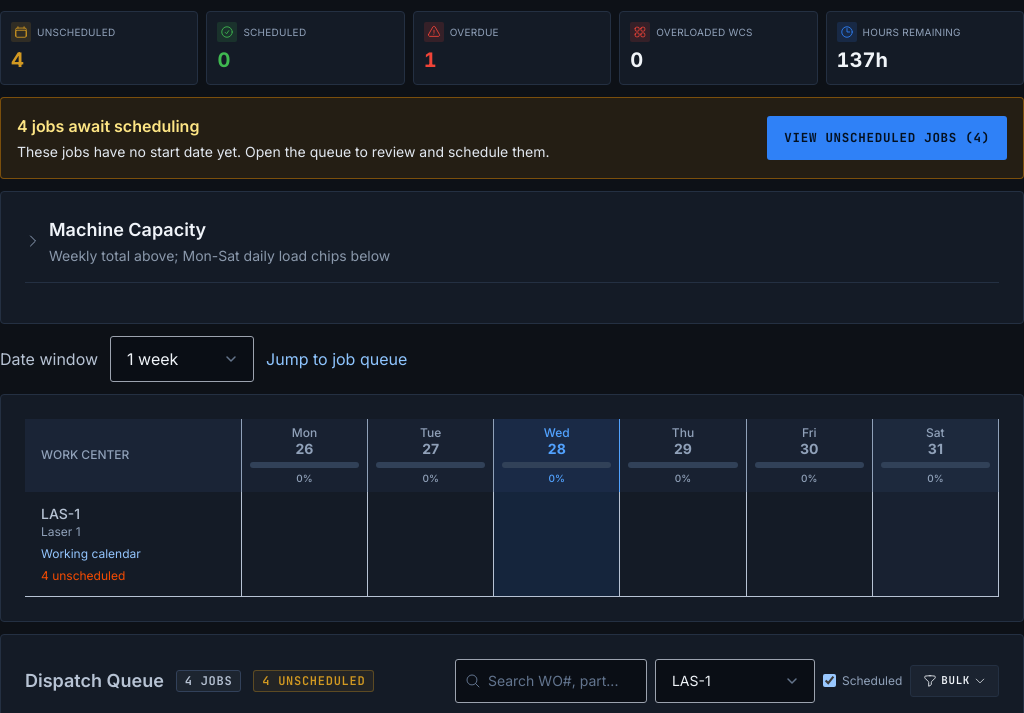
Test: Scheduling — work-center filter round-trips through ?work_center= › applies an incoming numeric param, writes changes back, and defaults clean
Note: Clearing the filter removes the param — default state keeps a clean URL.
Select "All Work Centers" in the dropdown named "Filter by work center" at (735, 680), box [655,658,815,702]
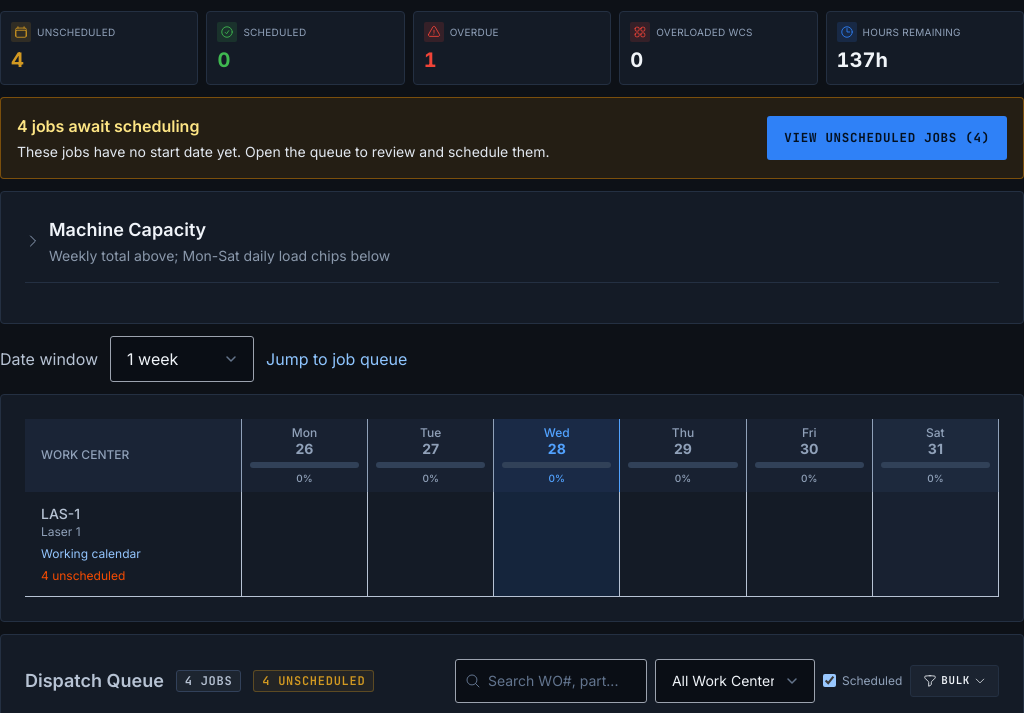
Note: Re-selecting writes it back.
Select "LAS-1" in the dropdown named "Filter by work center" at (735, 680), box [655,658,815,702]
(page scrolled)
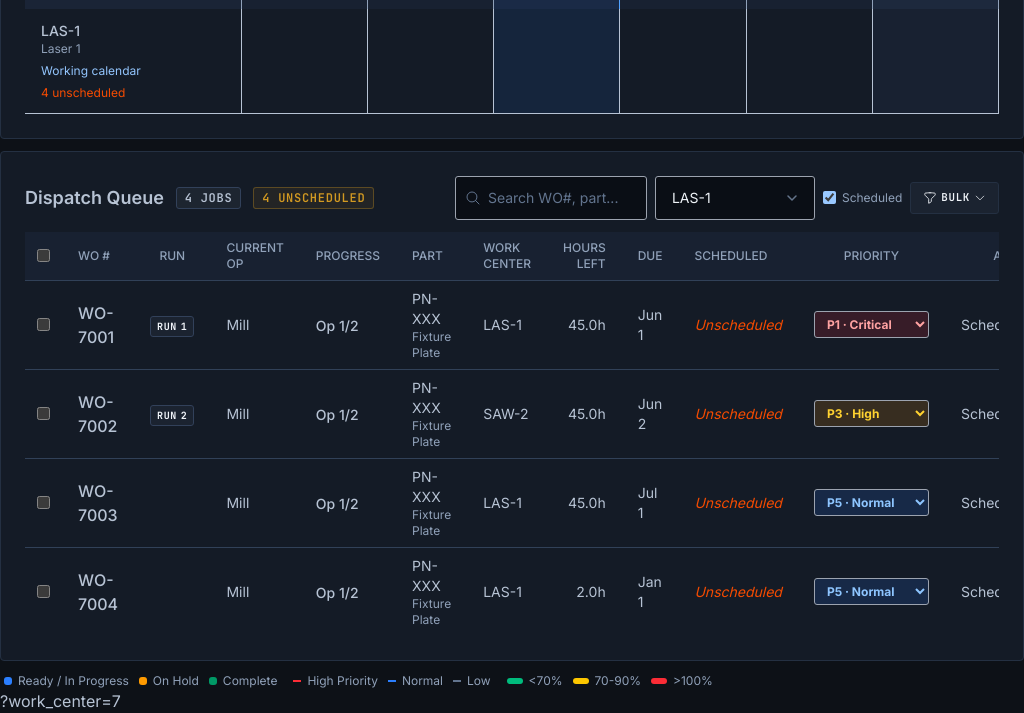
Expected: the text with test id "location-search" reads "?work_center=7", [0,690,121,710]
